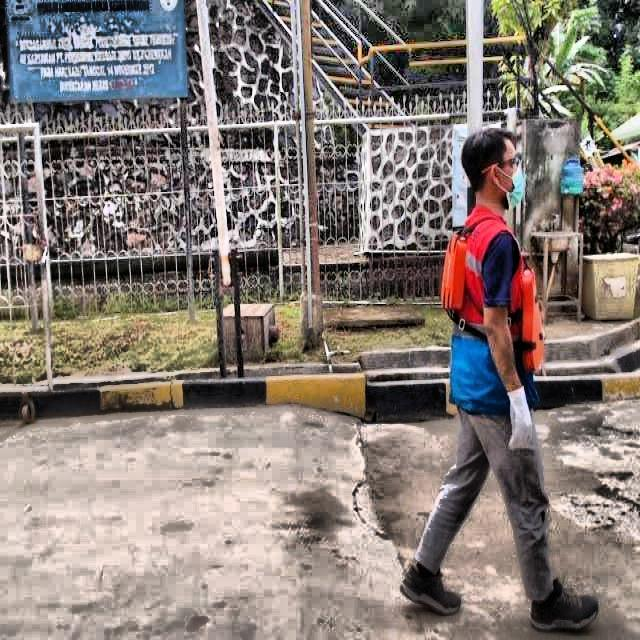safety_jacket: (440, 207, 546, 418)
